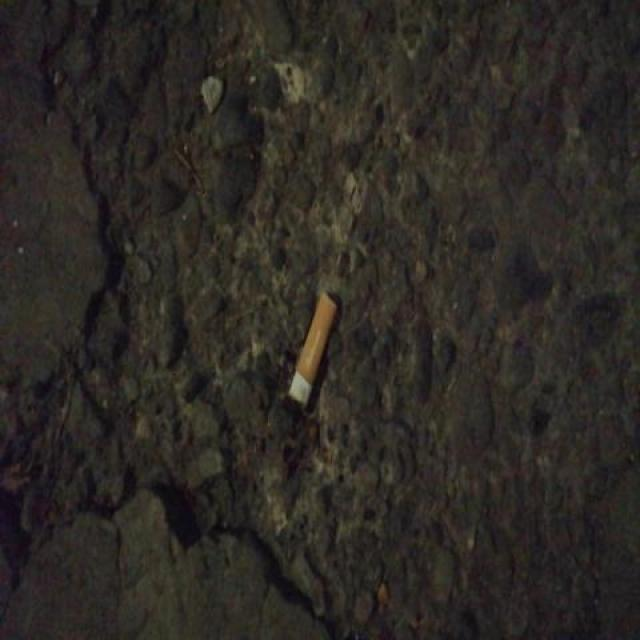non-organic waste: (283, 285, 341, 411)
